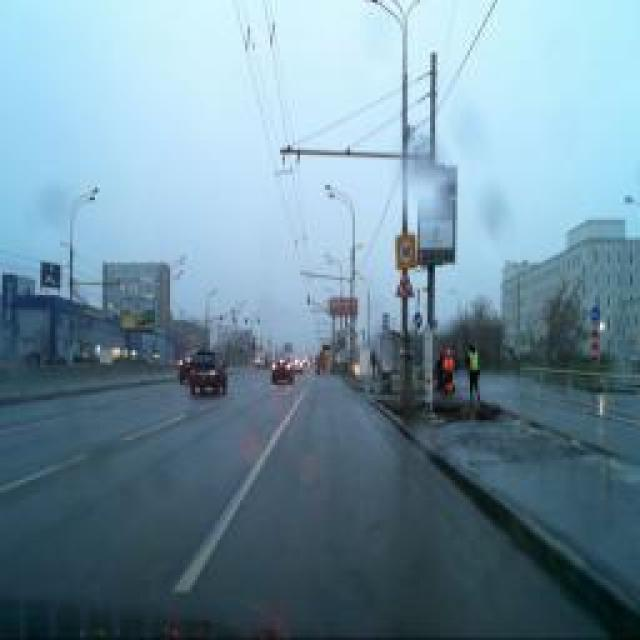sign: (396, 234, 416, 268)
